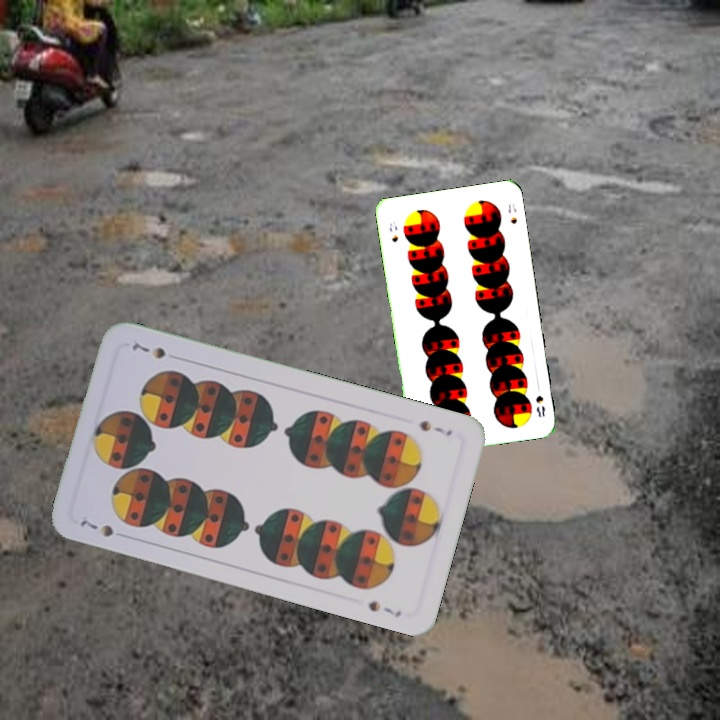S7: (76, 512, 116, 540), (414, 416, 455, 439)
S8: (532, 391, 548, 420), (385, 217, 401, 244)
